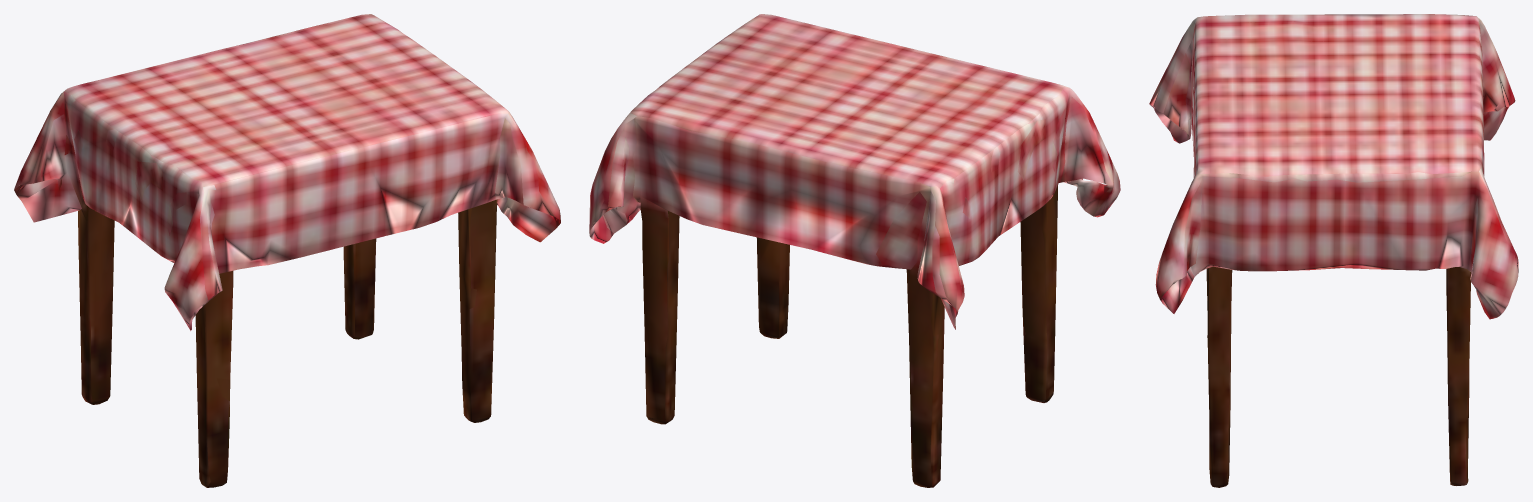
File: mesa.movil.glb
3 views of the same model, side by side, from view 1: azimuth 30°, elevation 25°; view 2: azimuth 150°, elevation 25°; view 3: azimuth 270°, elevation 25° (orthographic). The views are drawn at different scales.
Visible parts, largest first — view 1: geometry_0; view 2: geometry_0; view 3: geometry_0.
Boxes of the visible parts, box(x1,y1,x2,y2) form: geometry_0: box(14, 14, 560, 487); geometry_0: box(589, 14, 1120, 487); geometry_0: box(1149, 14, 1518, 487).
Size of the model in its own units: 1 by 0.7796 by 0.8.
Materials: 1 (1 with a texture image).
